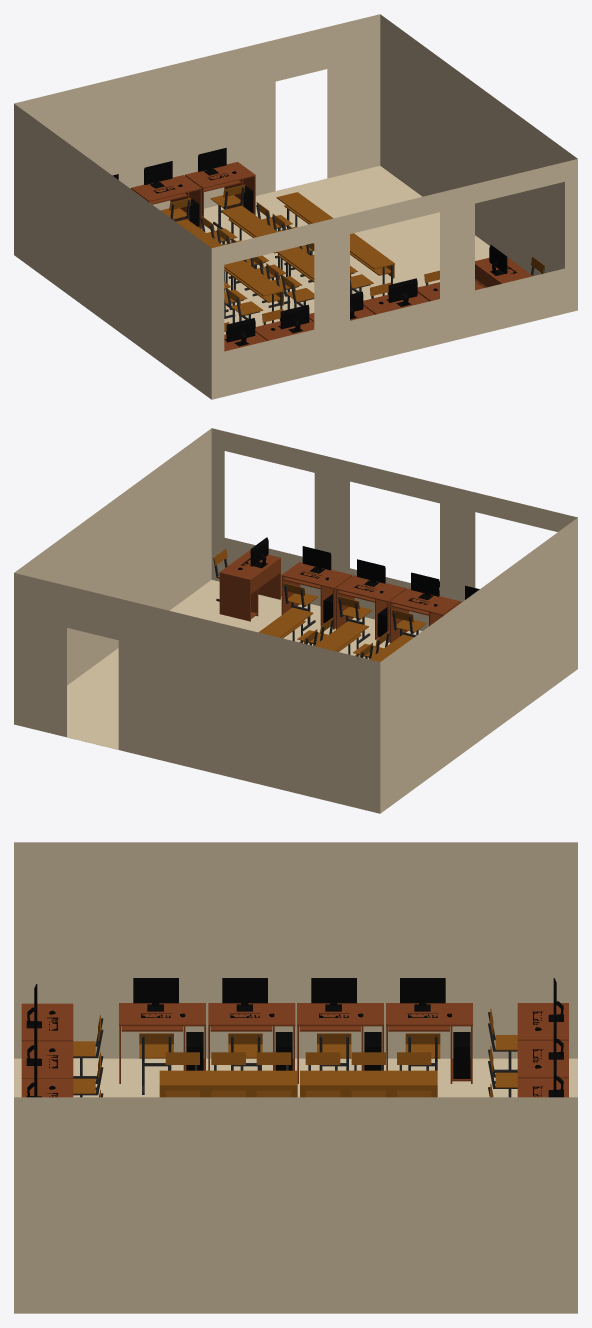
Rendered from 414-2_с материалом_1.fbx.
3 views of the same model, one above another, from view 1: azimuth 30°, elevation 25°; view 2: azimuth 150°, elevation 25°; view 3: azimuth 270°, elevation 25° (orthographic). The views are drawn at different scales.
Parts seen in each view (by area): view 1: Cube, Cube.023, Cube.000, Cube.015, Cube.016, Cube.017, Cube.019, Cube.033, Cube.018, Cube.030, Cube.029, Cube.031 (+2 smaller); view 2: Cube, Cube.033, Cube.032, Cube.030, Cube.028, Cube.016, Cube.018; view 3: Cube, Cube.024, Cube.025, Cube.006, Cube.027, Cube.015, Cube.014, Cube.031, Cube.001, Cube.020, Cube.029, Cube.000 (+3 smaller).
Part boxes in pixels (x1=…): Cube: x1=14, y1=14, x2=577, y2=399; Cube.023: x1=185, y1=147, x2=255, y2=229; Cube.000: x1=131, y1=161, x2=201, y2=229; Cube.015: x1=224, y1=260, x2=284, y2=322; Cube.016: x1=250, y1=247, x2=314, y2=309; Cube.017: x1=200, y1=205, x2=288, y2=290; Cube.019: x1=256, y1=192, x2=333, y2=276; Cube.033: x1=475, y1=245, x2=544, y2=287; Cube.018: x1=306, y1=233, x2=394, y2=295; Cube.030: x1=363, y1=278, x2=429, y2=314; Cube.029: x1=255, y1=304, x2=314, y2=340; Cube.031: x1=224, y1=318, x2=266, y2=351; Cube: x1=14, y1=428, x2=577, y2=813; Cube.033: x1=213, y1=537, x2=280, y2=621; Cube.032: x1=281, y1=546, x2=352, y2=630; Cube.030: x1=335, y1=559, x2=406, y2=643; Cube.028: x1=390, y1=572, x2=460, y2=643; Cube.016: x1=314, y1=621, x2=389, y2=658; Cube.018: x1=258, y1=607, x2=333, y2=645; Cube: x1=14, y1=842, x2=577, y2=1313; Cube.024: x1=386, y1=978, x2=472, y2=1083; Cube.025: x1=119, y1=978, x2=205, y2=1094; Cube.006: x1=297, y1=978, x2=383, y2=1083; Cube.027: x1=208, y1=978, x2=295, y2=1070; Cube.015: x1=159, y1=1052, x2=297, y2=1097; Cube.014: x1=300, y1=1052, x2=437, y2=1097; Cube.031: x1=21, y1=984, x2=103, y2=1090; Cube.001: x1=488, y1=978, x2=568, y2=1084; Cube.020: x1=488, y1=1015, x2=568, y2=1097; Cube.029: x1=21, y1=1021, x2=103, y2=1097; Cube.000: x1=488, y1=1053, x2=568, y2=1097.
Size of the model in its own units: 700 by 277 by 655.
